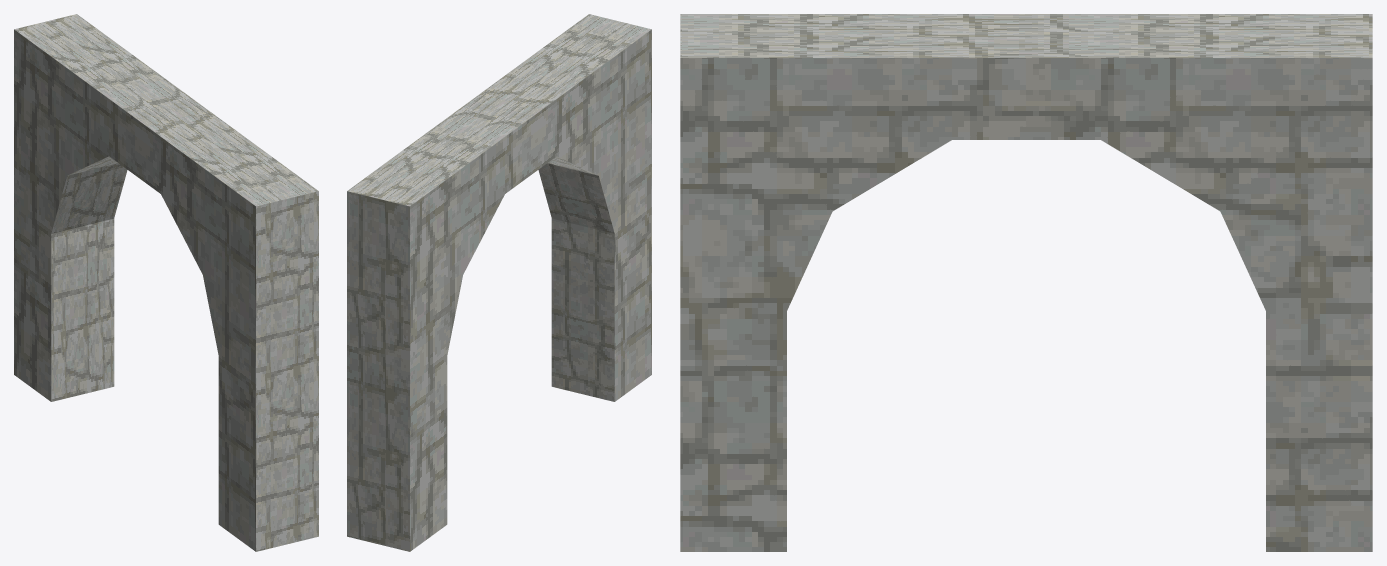
File: arch.fbx
3 views of the same model, side by side, from view 1: azimuth 30°, elevation 25°; view 2: azimuth 150°, elevation 25°; view 3: azimuth 270°, elevation 25° (orthographic). The views are drawn at different scales.
Visible parts, largest first — view 1: Cube; view 2: Cube; view 3: Cube.
Part boxes in pixels (x1=…): Cube: x1=14, y1=14, x2=318, y2=551; Cube: x1=347, y1=14, x2=651, y2=551; Cube: x1=680, y1=14, x2=1372, y2=551.
Size of the model in its own units: 200 by 1049 by 1333.
